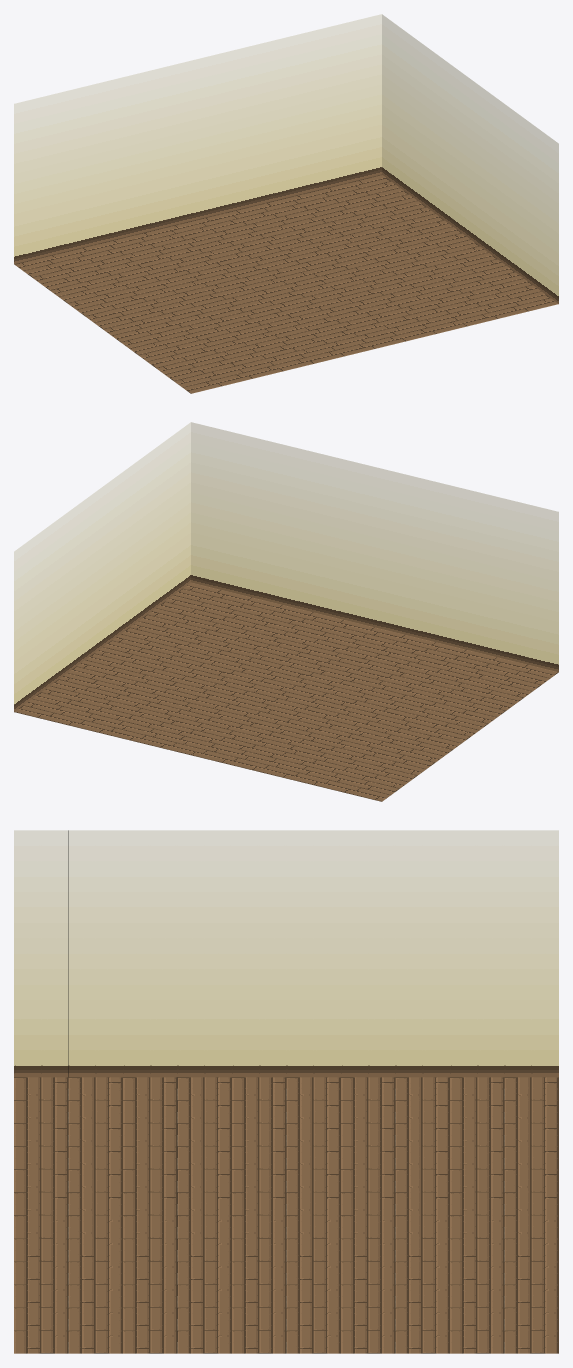
File: room.glb
3 renders of one model, top to bottom at view 1: azimuth 30°, elevation 25°; view 2: azimuth 150°, elevation 25°; view 3: azimuth 270°, elevation 25°, orthographic. The views are drawn at different scales.
Parts seen in each view (by area): view 1: Room; view 2: Room; view 3: Room.
Boxes of the visible parts, x1,y1,x2,y2 form: Room: (14,14,558,393); Room: (14,422,558,801); Room: (14,830,558,1353).
Bounding box in the file's own units: 6 × 2.5 × 5.
Materials: 1 (1 with a texture image).
